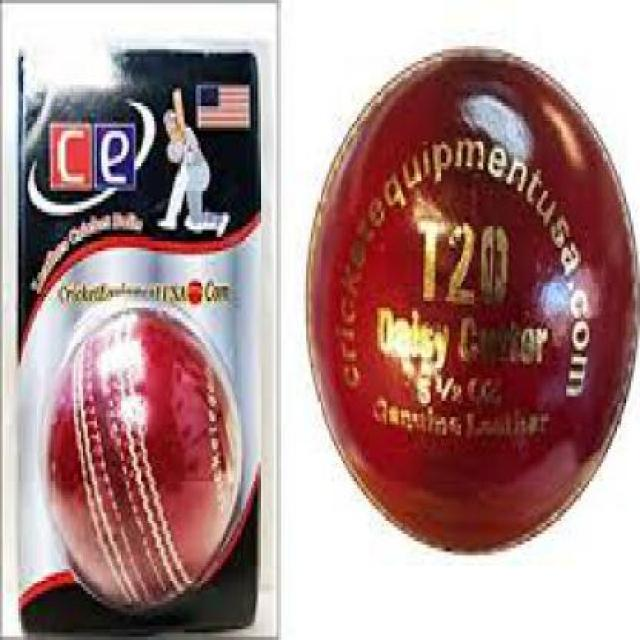ball: (295, 28, 640, 569)
